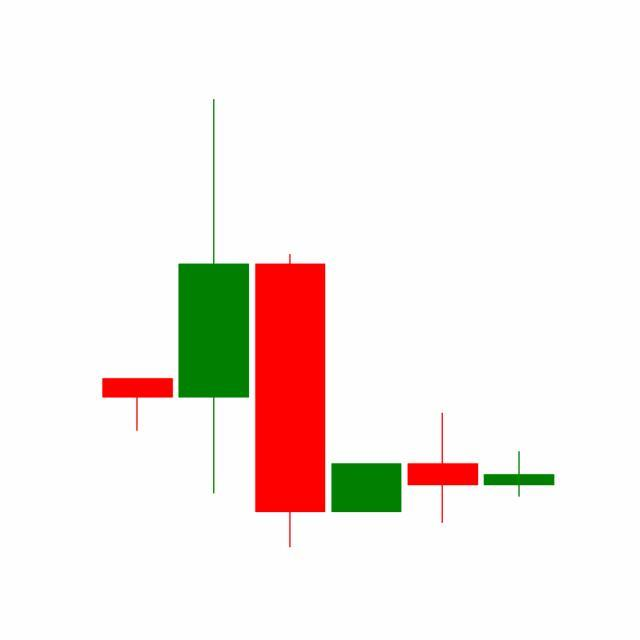Spinning Top: (404, 412, 482, 526)
